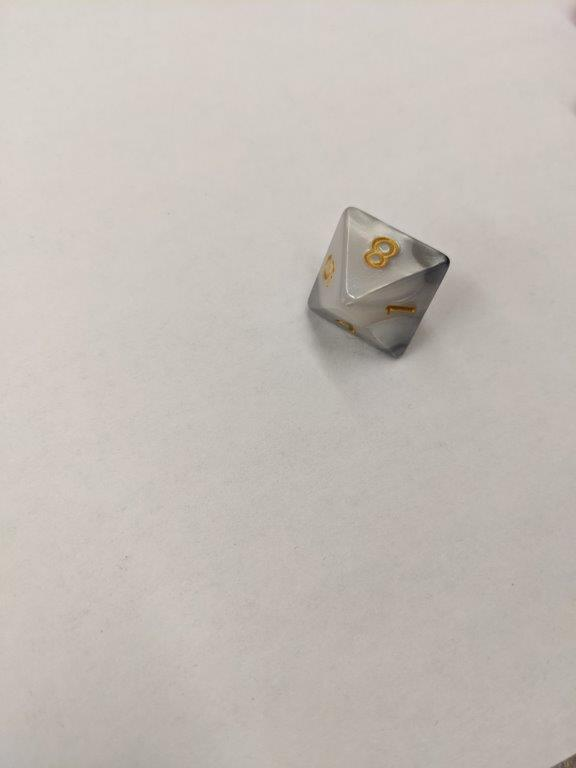d8-8: (305, 205, 449, 365)
